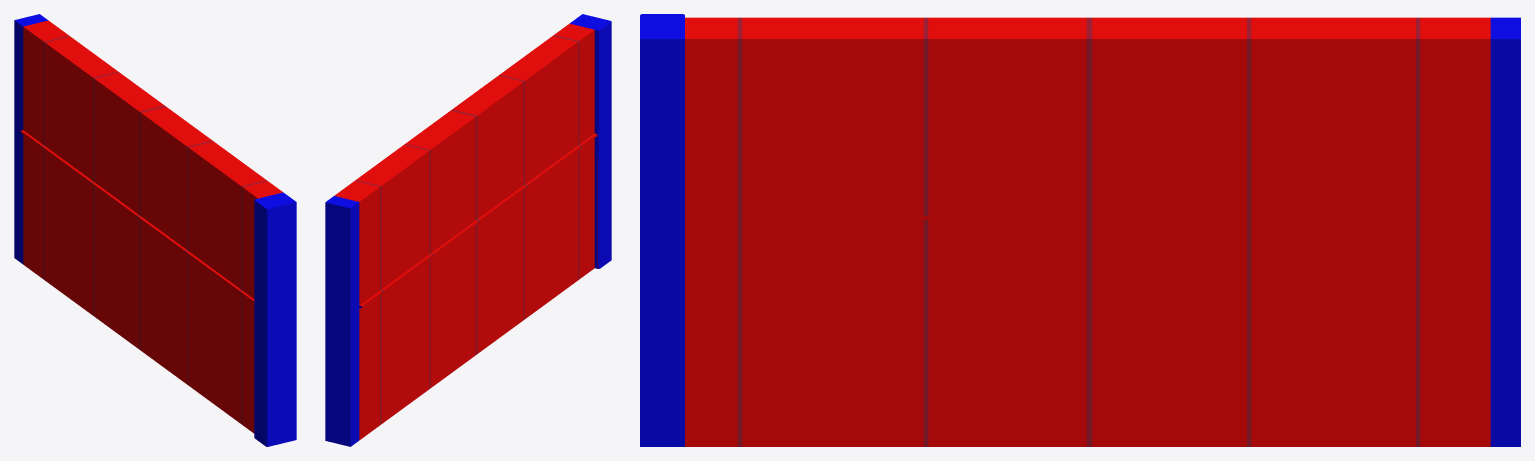
File: BlankWall2.fbx
The picture shows the model from 3 angles, left to right: view 1: azimuth 30°, elevation 25°; view 2: azimuth 150°, elevation 25°; view 3: azimuth 270°, elevation 25°; orthographic projection. The views are drawn at different scales.
Visible parts, largest first — view 1: BlankWall2; view 2: BlankWall2; view 3: BlankWall2.
Boxes of the visible parts, bbox=[...] form: BlankWall2: bbox=[14, 14, 296, 446]; BlankWall2: bbox=[325, 14, 611, 446]; BlankWall2: bbox=[640, 14, 1520, 446].
Bounding box in the file's own units: 1197 × 79.98 × 612.
